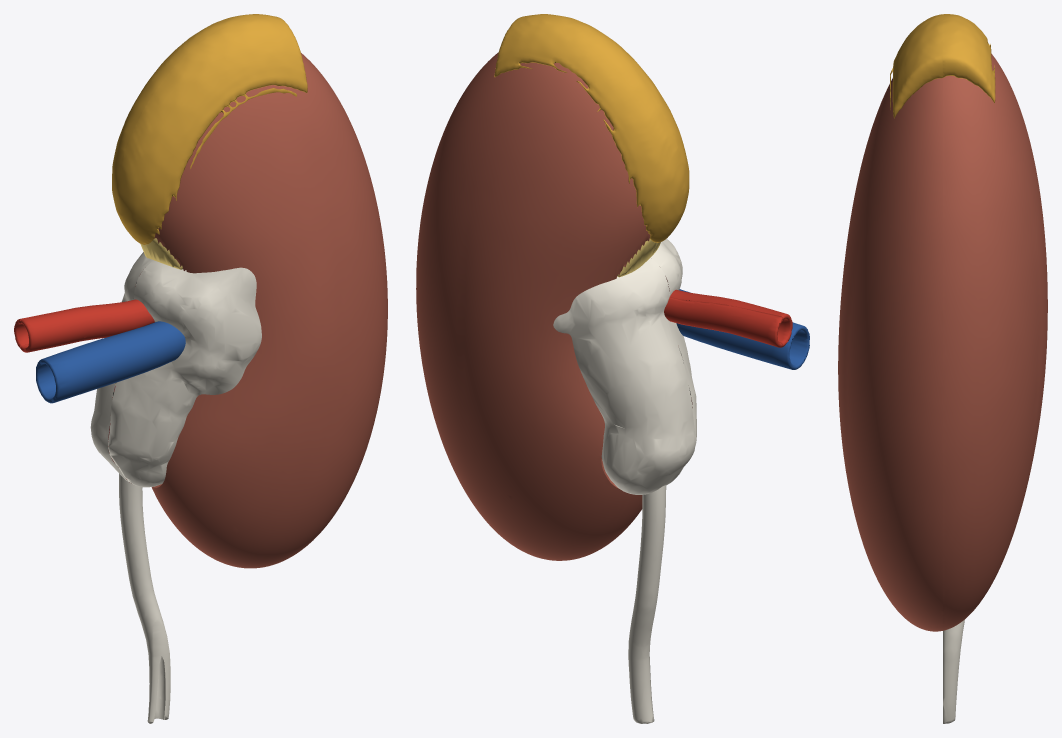
The model's file is kidney_hydro_3_coronal.glb.
The picture shows the model from 3 angles, left to right: view 1: azimuth 30°, elevation 25°; view 2: azimuth 150°, elevation 25°; view 3: azimuth 270°, elevation 25°; orthographic projection. The views are drawn at different scales.
Parts seen in each view (by area): view 1: anterior_half, ureter, adrenal_gland, renal_pelvis; view 2: renal_cortex, renal_pelvis, adrenal_gland, anterior_half, ureter, renal_artery; view 3: anterior_half, renal_cortex, adrenal_gland, ureter.
Boxes of the visible parts, box(x1,y1,x2,y2) form: anterior_half: box(20, 18, 387, 568); ureter: box(119, 473, 170, 723); adrenal_gland: box(112, 14, 283, 240); renal_pelvis: box(90, 252, 153, 483); renal_cortex: box(416, 52, 650, 560); renal_pelvis: box(553, 258, 695, 494); adrenal_gland: box(494, 15, 684, 242); anterior_half: box(522, 14, 809, 550); ureter: box(628, 485, 666, 723); renal_artery: box(664, 297, 783, 347); anterior_half: box(838, 14, 942, 631); renal_cortex: box(943, 53, 1047, 630); adrenal_gland: box(943, 14, 995, 102); ureter: box(943, 619, 964, 723).
Size of the model in its own units: 7.85 by 14.23 by 3.66.
1 material, 1 textured.
